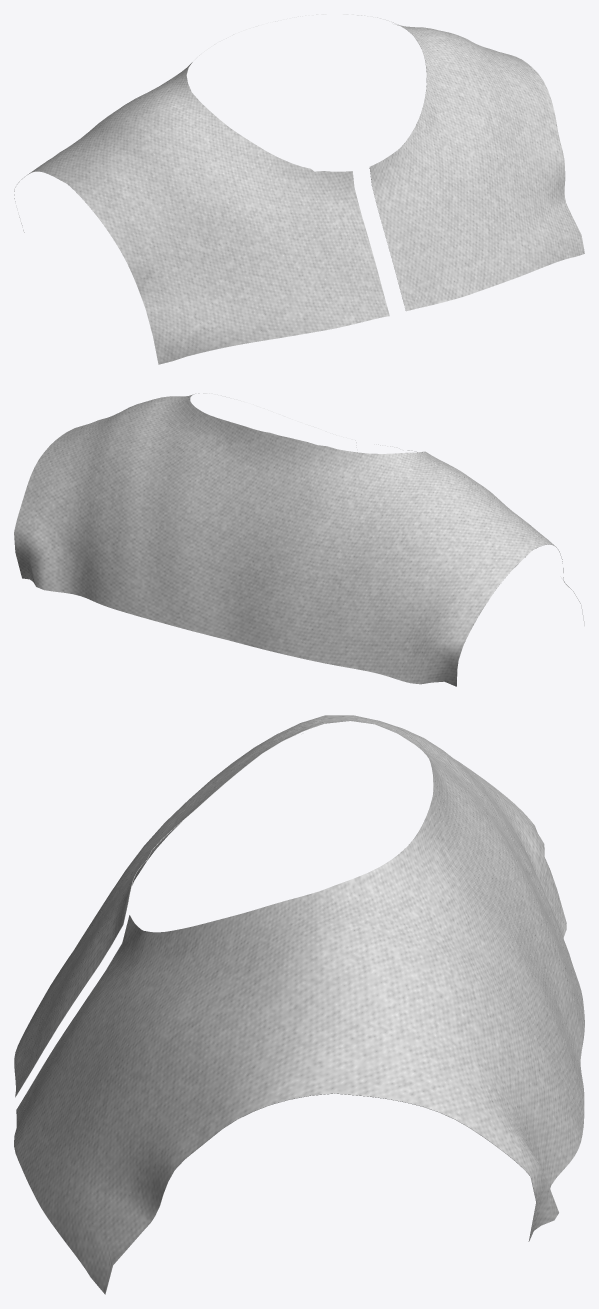
The model's file is Decor_Breast.glb.
The picture shows the model from 3 angles, top to bottom: view 1: azimuth 30°, elevation 25°; view 2: azimuth 150°, elevation 25°; view 3: azimuth 270°, elevation 25°; orthographic projection. The views are drawn at different scales.
Parts seen in each view (by area): view 1: Decor_Breast1; view 2: Decor_Breast1; view 3: Decor_Breast1.
Boxes of the visible parts, left/top/right/bottom form: Decor_Breast1: left=14, top=14, right=584, bottom=364; Decor_Breast1: left=14, top=393, right=584, bottom=686; Decor_Breast1: left=14, top=715, right=584, bottom=1294.
Bounding box in the file's own units: 0.7897 × 0.3493 × 0.5148.
Materials: 1 (1 with a texture image).
